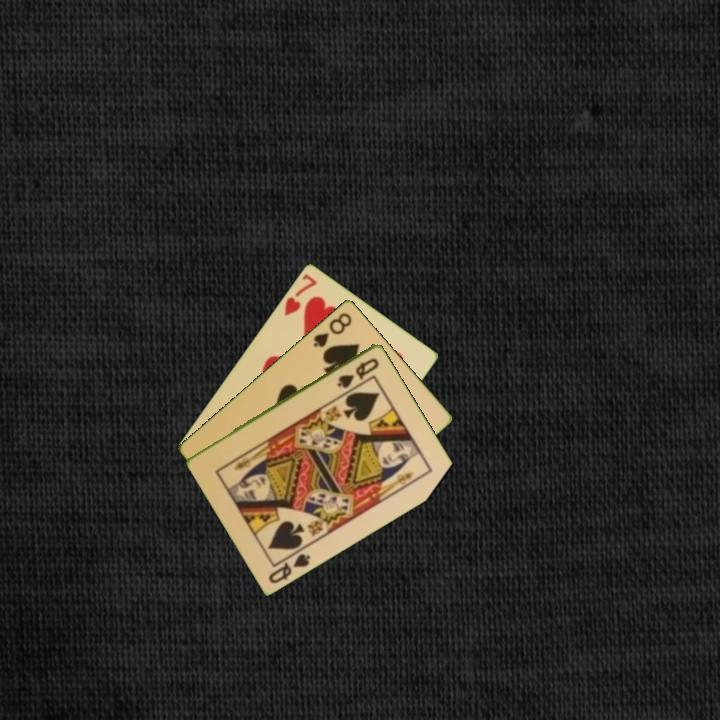7h: (281, 270, 319, 318)
8s: (309, 308, 355, 350)
Qs: (265, 543, 314, 586), (333, 354, 382, 391)
